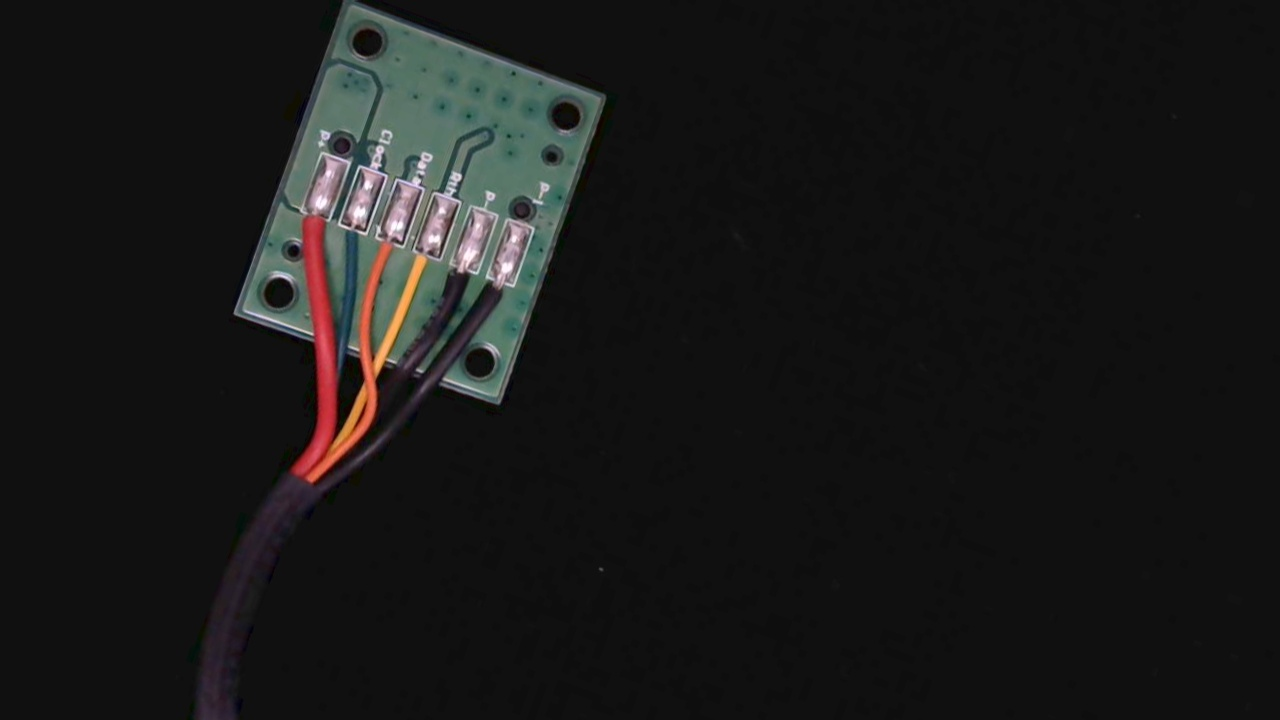Black: (427, 245, 484, 326)
Black1: (469, 258, 523, 332)
Green: (323, 201, 375, 270)
Orange: (356, 216, 411, 295)
Red: (283, 191, 339, 268)
Yellow: (393, 232, 450, 313)
